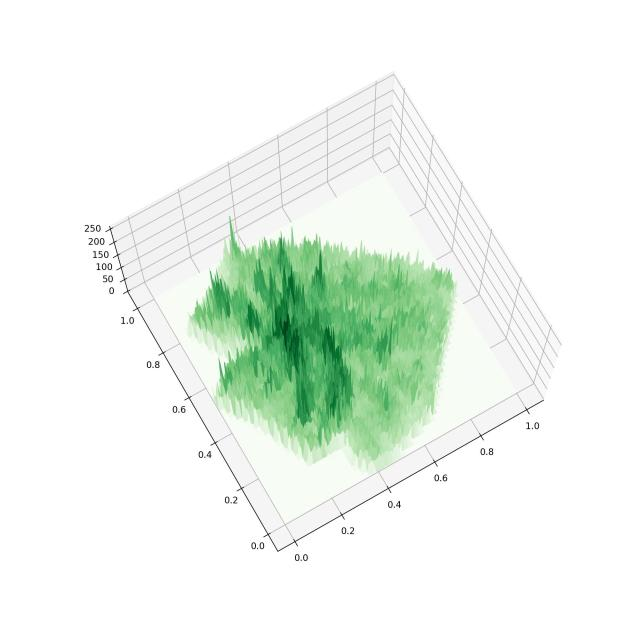spruce: (46, 68, 591, 581)
